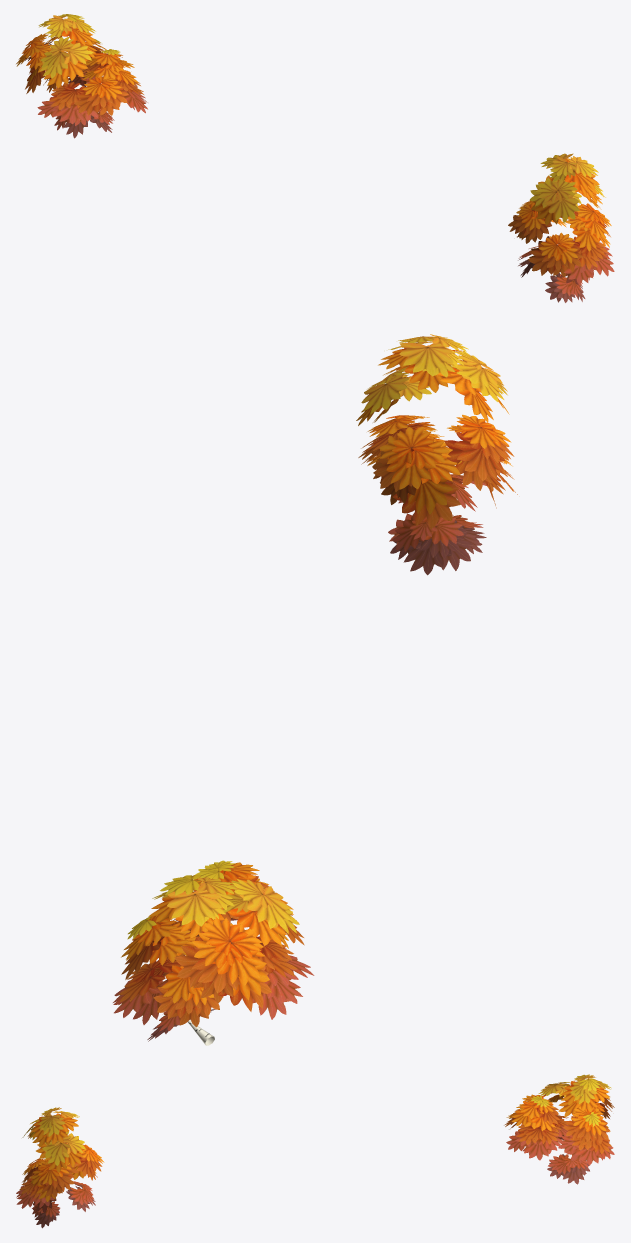
3 renders of one model, top to bottom at view 1: azimuth 30°, elevation 25°; view 2: azimuth 150°, elevation 25°; view 3: azimuth 270°, elevation 25°, orthographic. The views are drawn at different scales.
Visible parts, largest first — view 1: island_leaves; view 2: island_leaves; view 3: island_leaves.
Part boxes in pixels (bbox=[...]): island_leaves: bbox=[16, 14, 614, 302]; island_leaves: bbox=[113, 334, 517, 1045]; island_leaves: bbox=[16, 1074, 614, 1228].
Size of the model in its own units: 8.67 by 4.97 by 20.43.
Materials: 1 (1 with a texture image).
